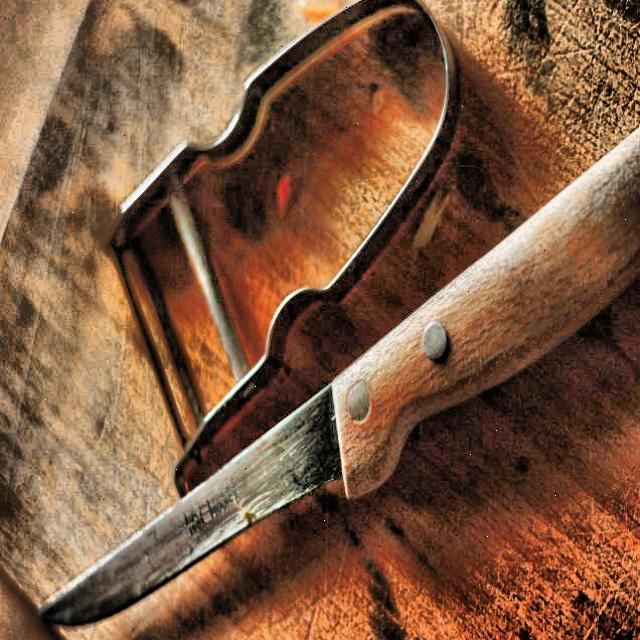knife: (36, 68, 640, 639)
